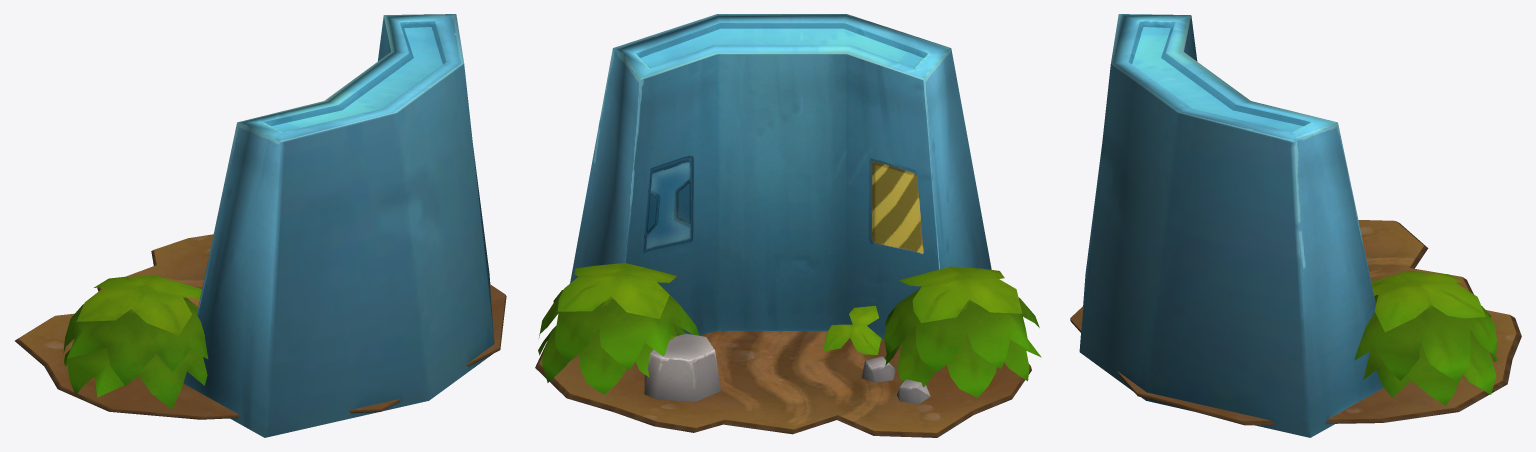
File: FloodedValleyOdysseyStatue.fbx
3 renders of one model, left to right at view 1: azimuth 30°, elevation 25°; view 2: azimuth 150°, elevation 25°; view 3: azimuth 270°, elevation 25°, orthographic. The views are drawn at different scales.
Visible parts, largest first — view 1: FloodedValley; view 2: FloodedValley; view 3: FloodedValley.
Part boxes in pixels (left/top/right/bottom): FloodedValley: left=15, top=14, right=506, bottom=437; FloodedValley: left=535, top=14, right=1041, bottom=437; FloodedValley: left=1070, top=14, right=1521, bottom=437.
Size of the model in its own units: 20.66 by 12.25 by 17.88.
